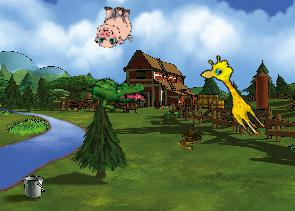crocodile: (81, 66, 149, 119)
giraffe: (196, 51, 276, 140)
pig: (93, 4, 134, 49)
